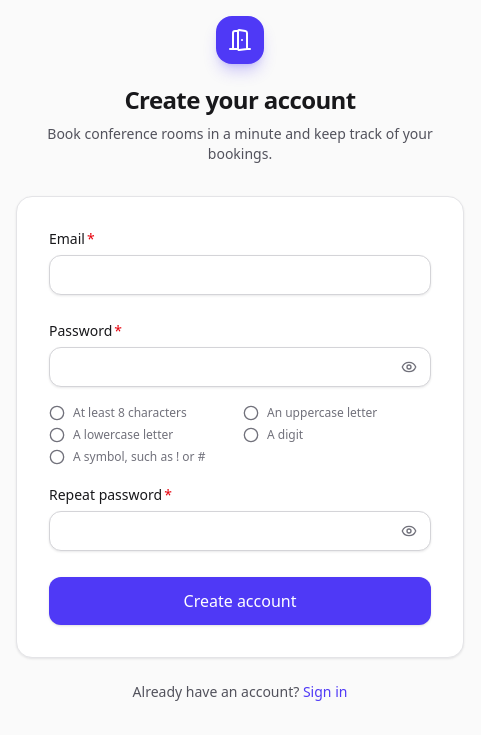
Test case: RegisterComponent › shows the password errors the server returns next to the password field
Type "new@example.test" into the field labelled "Email" at (240,275), box [49,255,431,295]
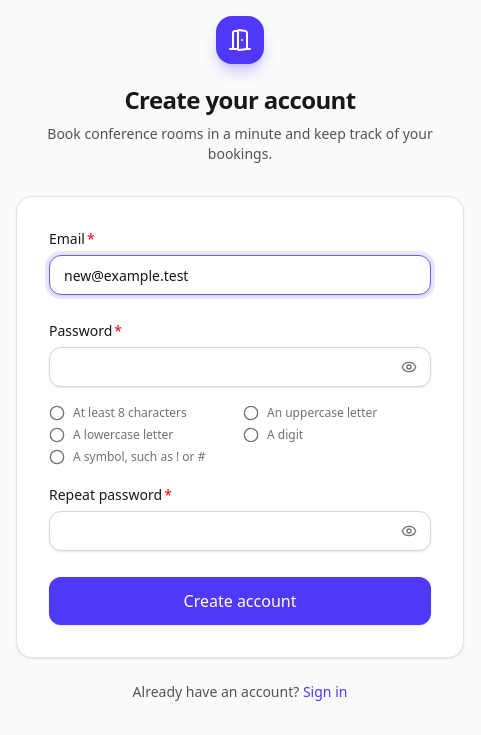
Type "Strong-Pass1!" into the password field labelled "Password" at (240,367), box [49,347,431,387]
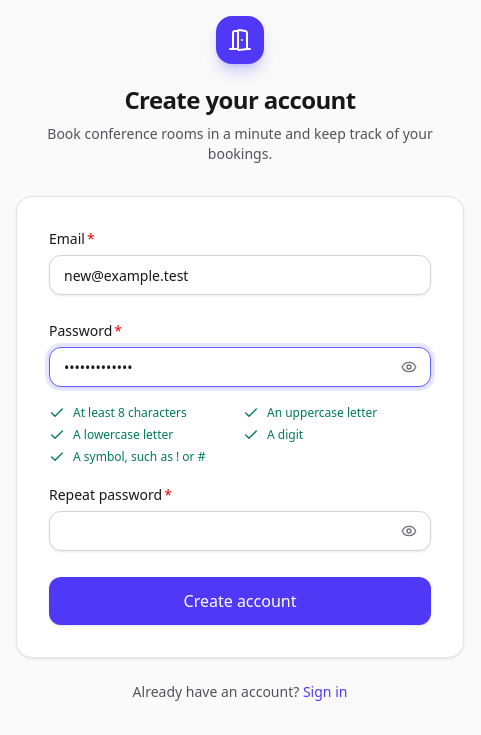
Type "Strong-Pass1!" into the password field labelled "Repeat password" at (240,531), box [49,511,431,551]
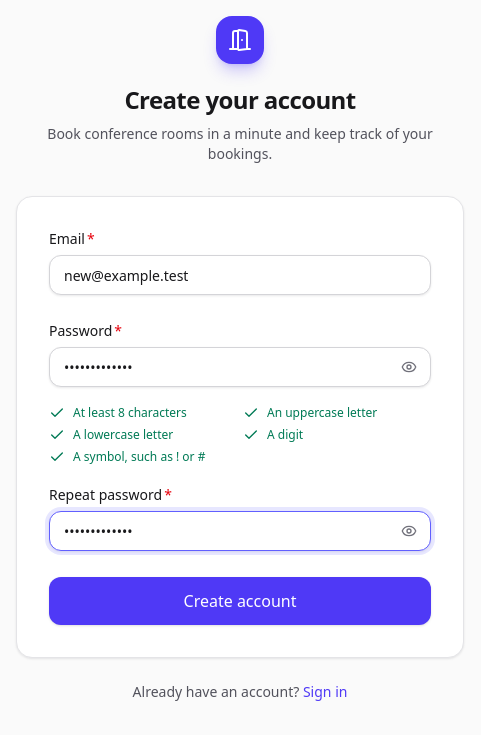
Click the button "Create account" at (240,601), box [49,577,431,625]
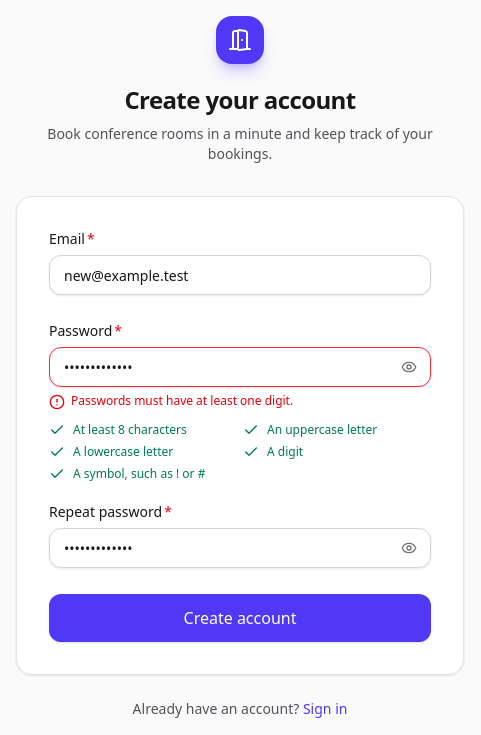
Check: the text "Passwords must have at least one digit." is shown, box [49,392,293,410]
